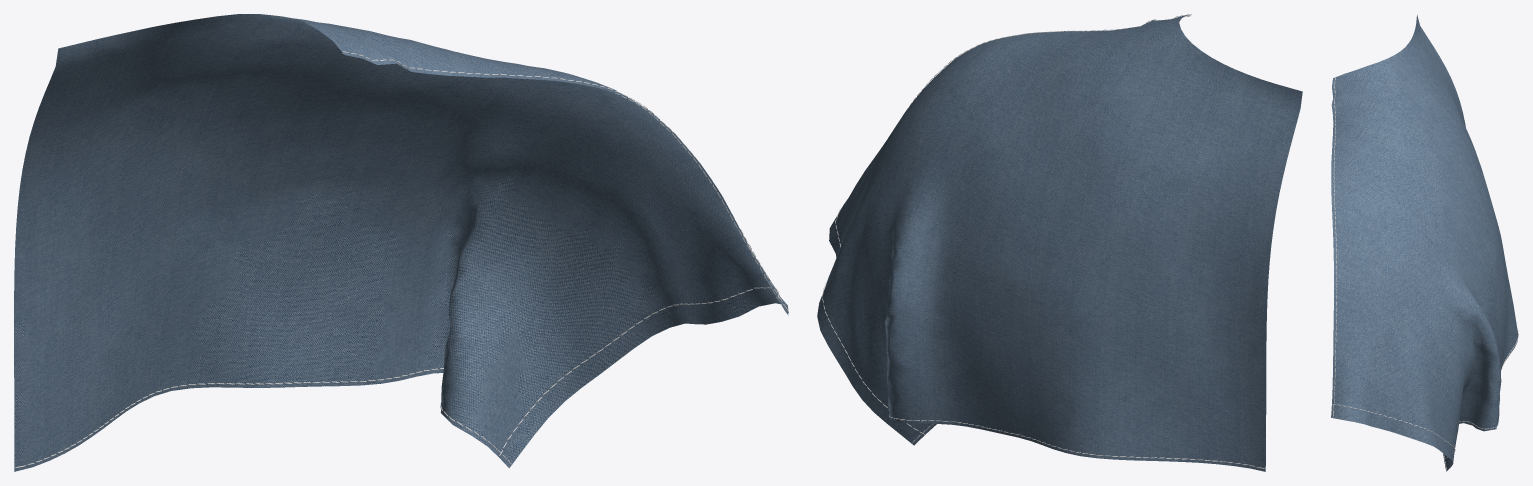
Rendered from sz2zuohousq.glb.
The picture shows the model from 3 angles, left to right: view 1: azimuth 30°, elevation 25°; view 2: azimuth 150°, elevation 25°; view 3: azimuth 270°, elevation 25°; orthographic projection. The views are drawn at different scales.
Parts seen in each view (by area): view 1: sz2zuohousq, _2; view 2: sz2zuohousq, _2; view 3: sz2zuohousq, _2.
Boxes of the visible parts, <box> form: sz2zuohousq: <box>14,14,788,471</box>; _2: <box>14,51,788,467</box>; sz2zuohousq: <box>817,14,1302,471</box>; _2: <box>822,14,1265,468</box>; sz2zuohousq: <box>1331,14,1518,471</box>; _2: <box>1332,77,1518,470</box>.
Size of the model in its own units: 2.67 by 2.16 by 1.12.
Materials: 3 (3 with a texture image).
